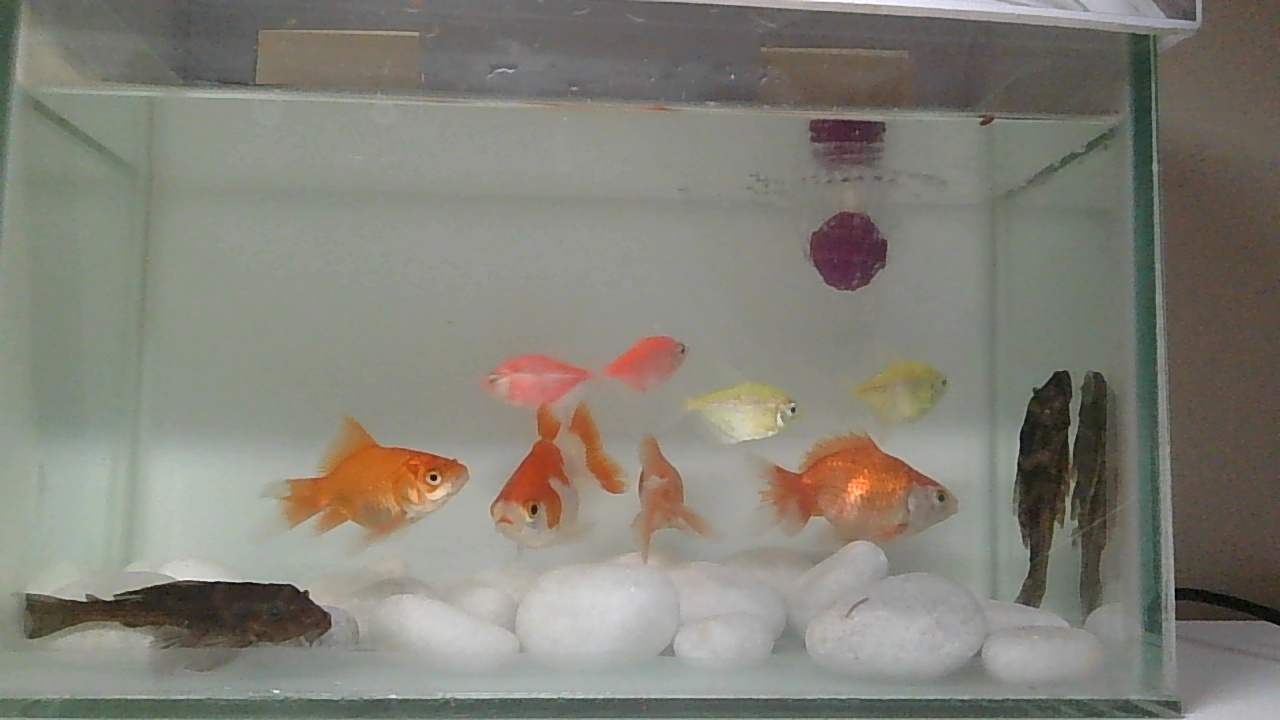fish: (251, 408, 463, 546), (761, 428, 959, 557), (803, 209, 890, 294), (857, 359, 951, 429)
